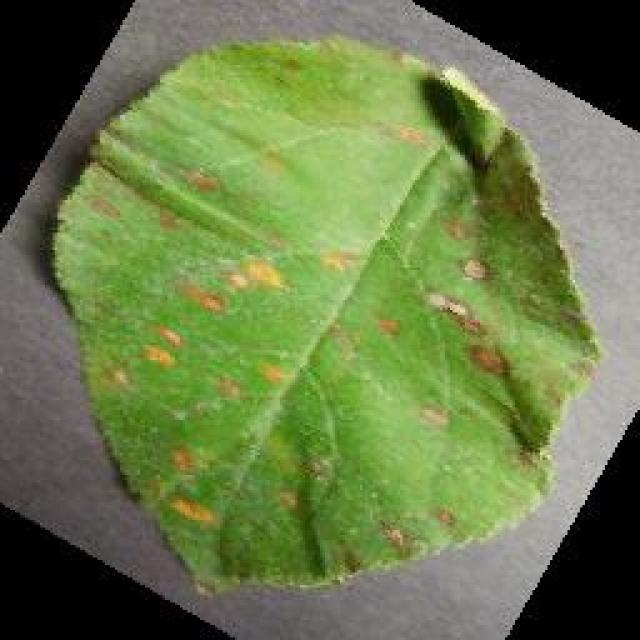apple scab disease: (48, 30, 600, 598)
